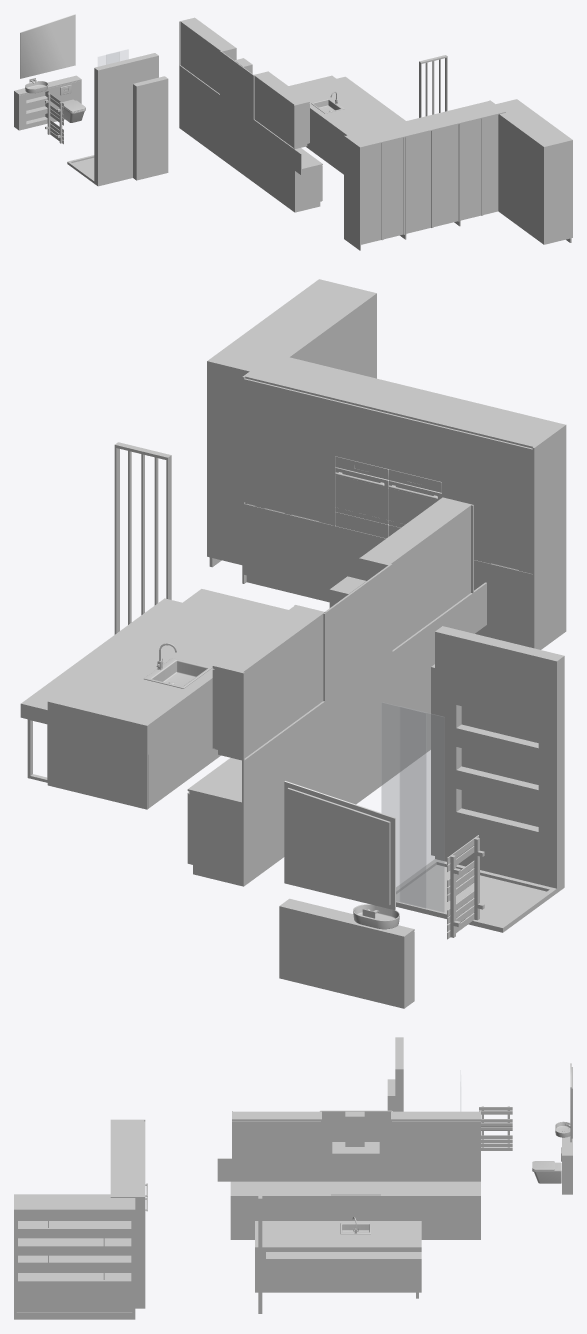
Rendered from Storey__GroundFloor__ProposedFixtures__MeshModel__.glb.
3 renders of one model, top to bottom at view 1: azimuth 30°, elevation 25°; view 2: azimuth 150°, elevation 25°; view 3: azimuth 270°, elevation 25°, orthographic. The views are drawn at different scales.
Parts seen in each view (by area): view 1: 27__ProposedBuilding__Fixtures::Default, 27__ProposedBuilding__Fixtures::MAT140__Mirror__ClearDefault, 01__ModelFlag__BuildingJoins__IndicatorLines::Default, 27__ProposedBuilding__Fixtures::MAT101__Glass__ClearDefault; view 2: 27__ProposedBuilding__Fixtures::Default, 27__ProposedBuilding__Fixtures::MAT101__Glass__ClearDefault, 27_1003__KitchenAppliance__StandardOven__WithWarmingDrawer__ (×2); view 3: 27__ProposedBuilding__Fixtures::Default.
Part boxes in pixels (<box>): 27__ProposedBuilding__Fixtures::Default: <box>14,17,572,250</box>; 27__ProposedBuilding__Fixtures::MAT140__Mirror__ClearDefault: <box>20,14,75,78</box>; 01__ModelFlag__BuildingJoins__IndicatorLines::Default: <box>133,76,167,180</box>; 27__ProposedBuilding__Fixtures::MAT101__Glass__ClearDefault: <box>98,49,128,66</box>; 27__ProposedBuilding__Fixtures::Default: <box>20,279,566,1008</box>; 27__ProposedBuilding__Fixtures::MAT101__Glass__ClearDefault: <box>381,702,444,912</box>; 27_1003__KitchenAppliance__StandardOven__WithWarmingDrawer__ (×2): <box>335,456,441,537</box>; 27__ProposedBuilding__Fixtures::Default: <box>14,1037,572,1319</box>.
Size of the model in its own units: 6.76 by 2.49 by 10.05.
Materials: 3 (1 with a texture image).
